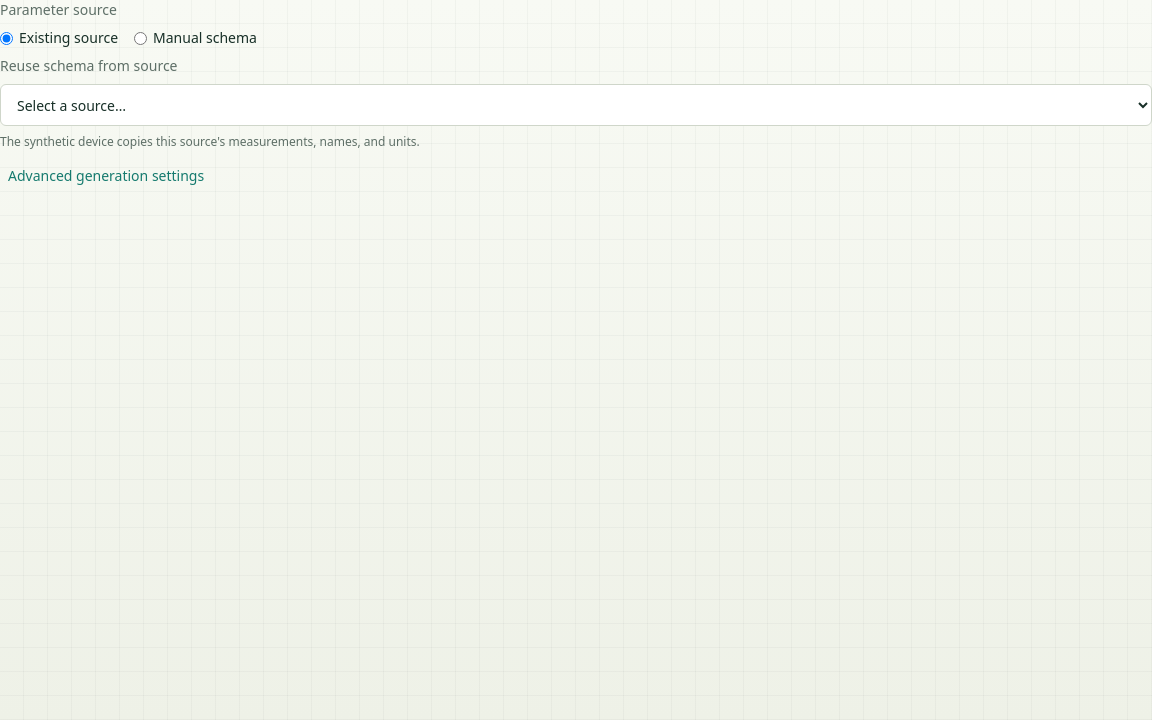
Test: SyntheticProfileStep — Prefill marks only the measurements it actually changed (UI-484) › badges only the matched measurement after a successful prefill
Select "Source 1" in the dropdown labelled "Reuse schema from source": (576, 105) [0,84,1151,126]
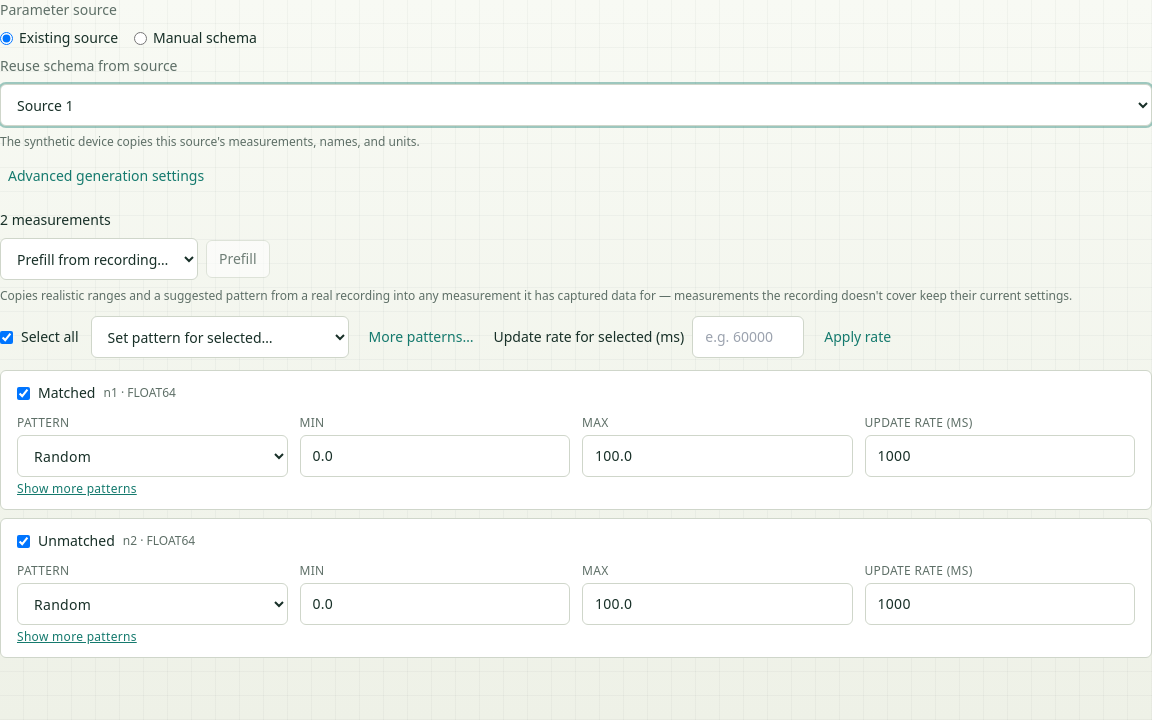
Expected: the text "Prefilled" is not shown
Expected: the text "Matched" is shown, [38,383,96,402]
Select "rec1 · 12 values" in the dropdown named "Prefill from recording": (99, 259) [0,238,198,280]
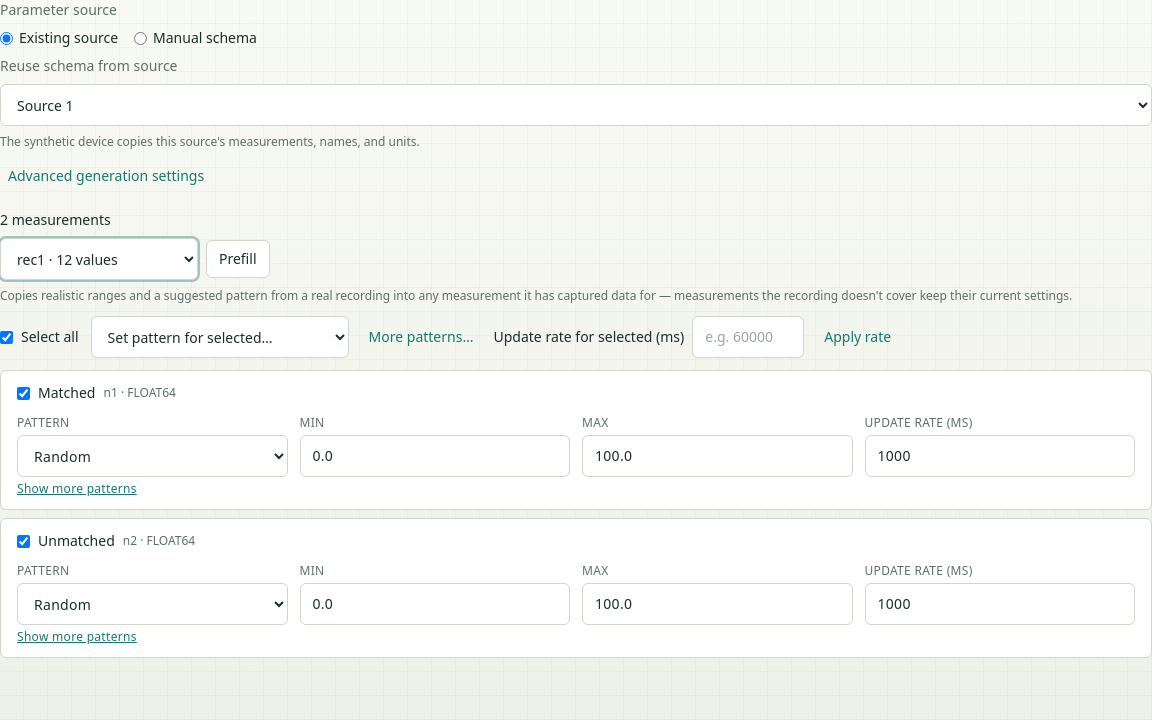
Click the button "Prefill": (238, 259) [206,240,270,278]
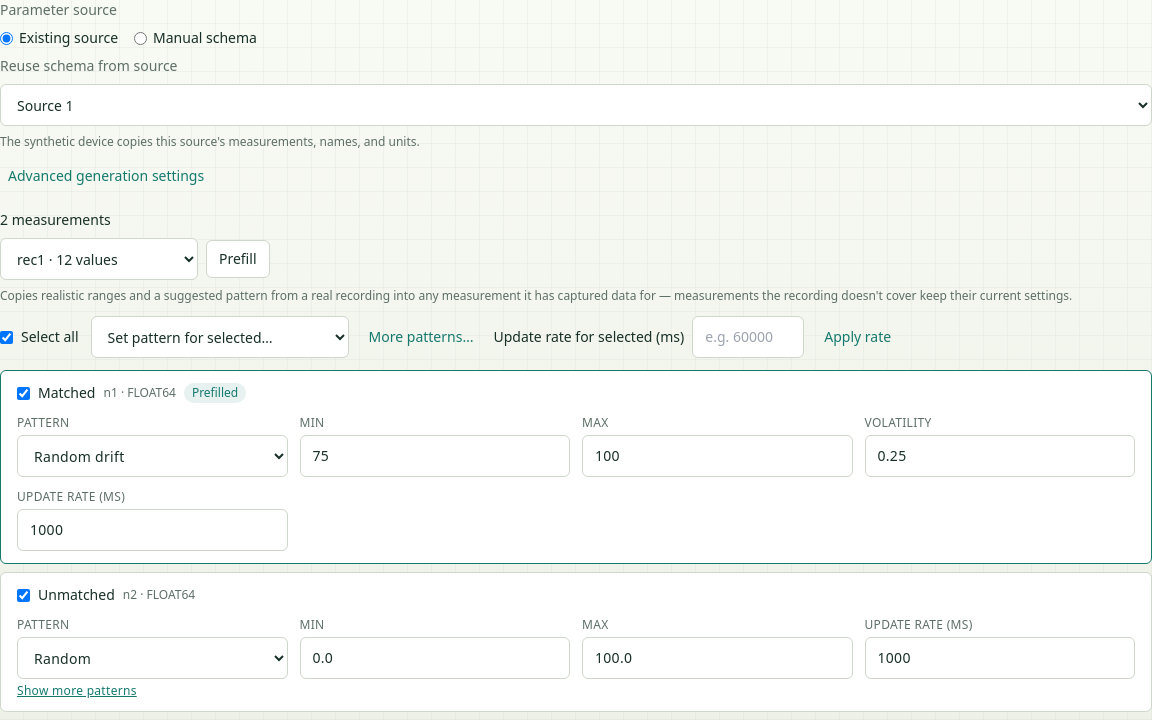
Expected: the text "Unmatched" does not show "Prefilled"
Expected: the text "Prefilled" is shown once, [184,383,246,403]
Expected: the list item "Matched" shows "Prefilled", [192,384,238,401]
